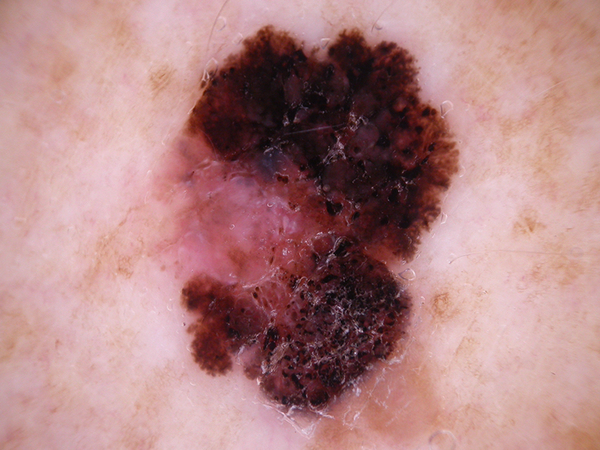Detected Lesion: (159, 20, 465, 420)
